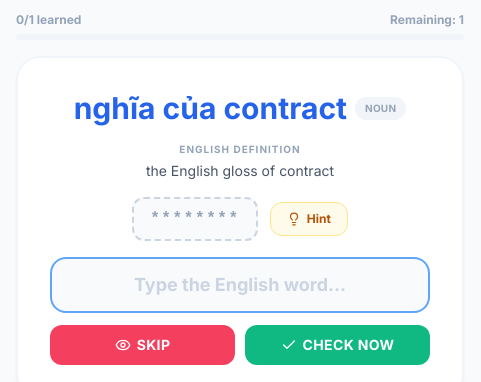
Test: GuessWordSession — 3-level hint progression › walks through levels 1, 2 and 3 with the exact deterministic masks and progress labels
Check: the field with placeholder "Type the English word..." is shown, box [50,257,430,313]
Click the button "Hint" at (309, 219), box [270,202,348,236]
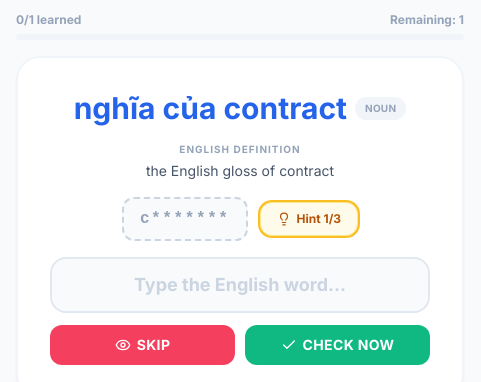
Check: the text "c*******" is shown, box [122,197,248,241]
Check: the button "Hint 1/3" is shown
Click the button "Hint 1/3" at (309, 219), box [260,202,358,236]
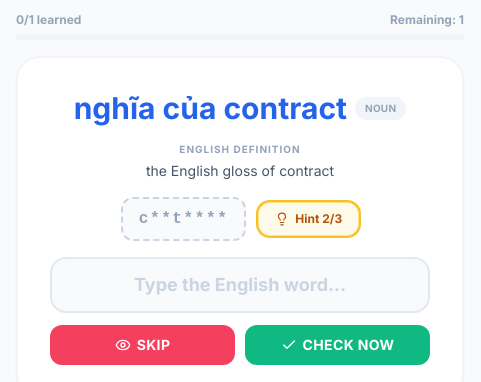
Check: the text "c**t****" is shown, box [121,197,246,241]
Check: the button "Hint 2/3" is shown
Check: the text "c*******" is gone
Click the button "Hint 2/3" at (309, 219), box [258,202,359,236]
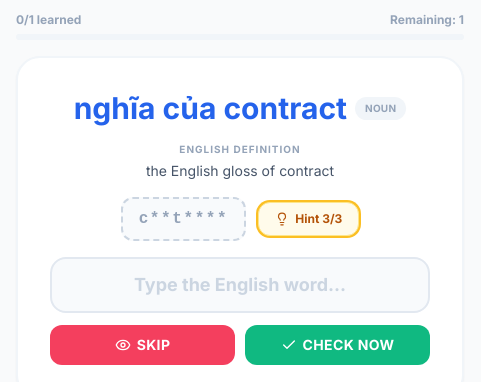
Check: the text "c**t****" is shown, box [121,197,246,241]
Check: the button "Hint 3/3" is shown, box [258,202,359,236]
